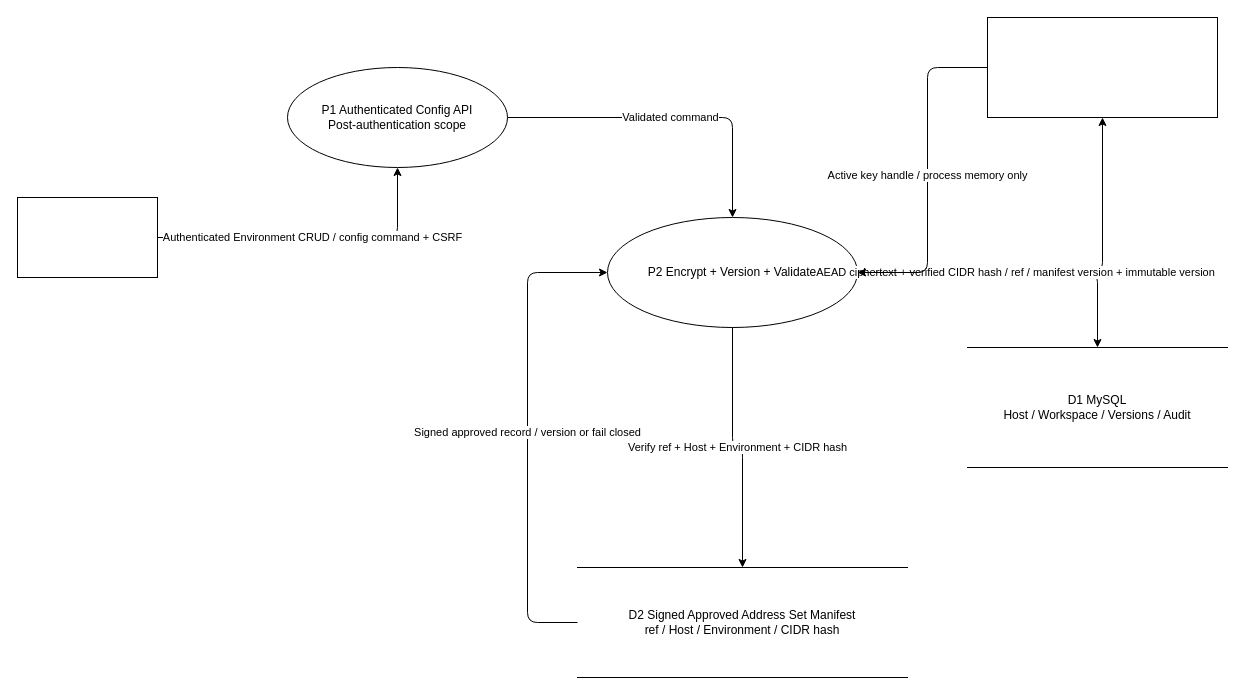
The diagram is 1245 pixels wide and 695 high, and some of its shapes have lost their labels. The shapes that lost their labels are listed below. From the top down, each one's centre as x and y in pixels, then its label:
At pixel 1102 67: "Secret Manager Restricted key material".
At pixel 87 237: "Developer".
